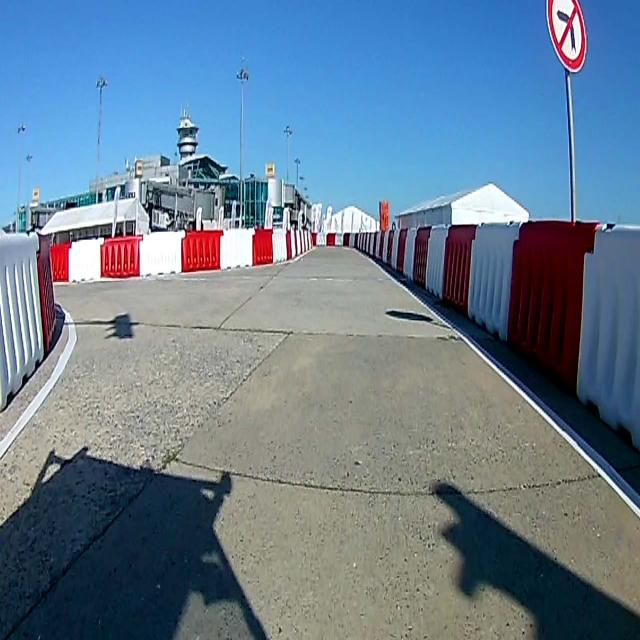soladonulmez: (548, 1, 586, 69)
